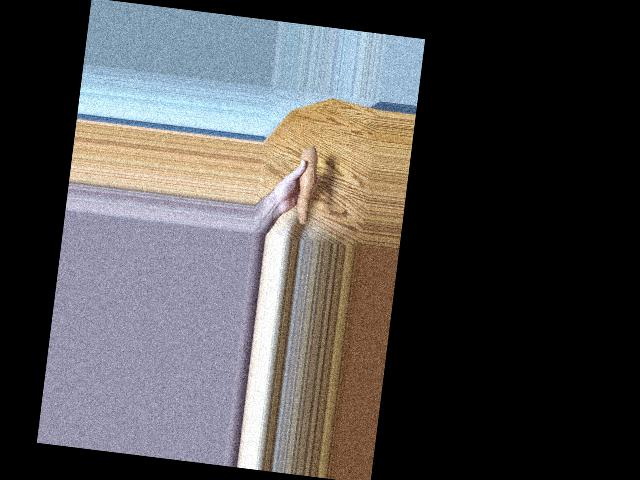sweet_potato: (290, 148, 321, 225)
